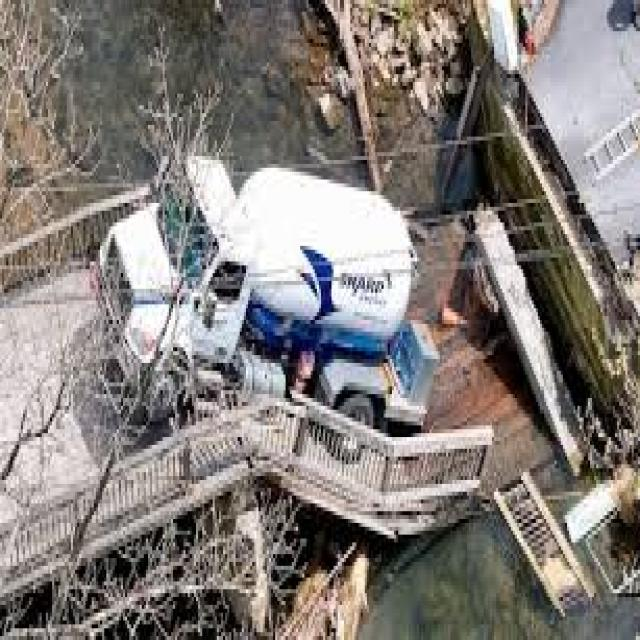bridge collapse: (83, 86, 640, 576)
